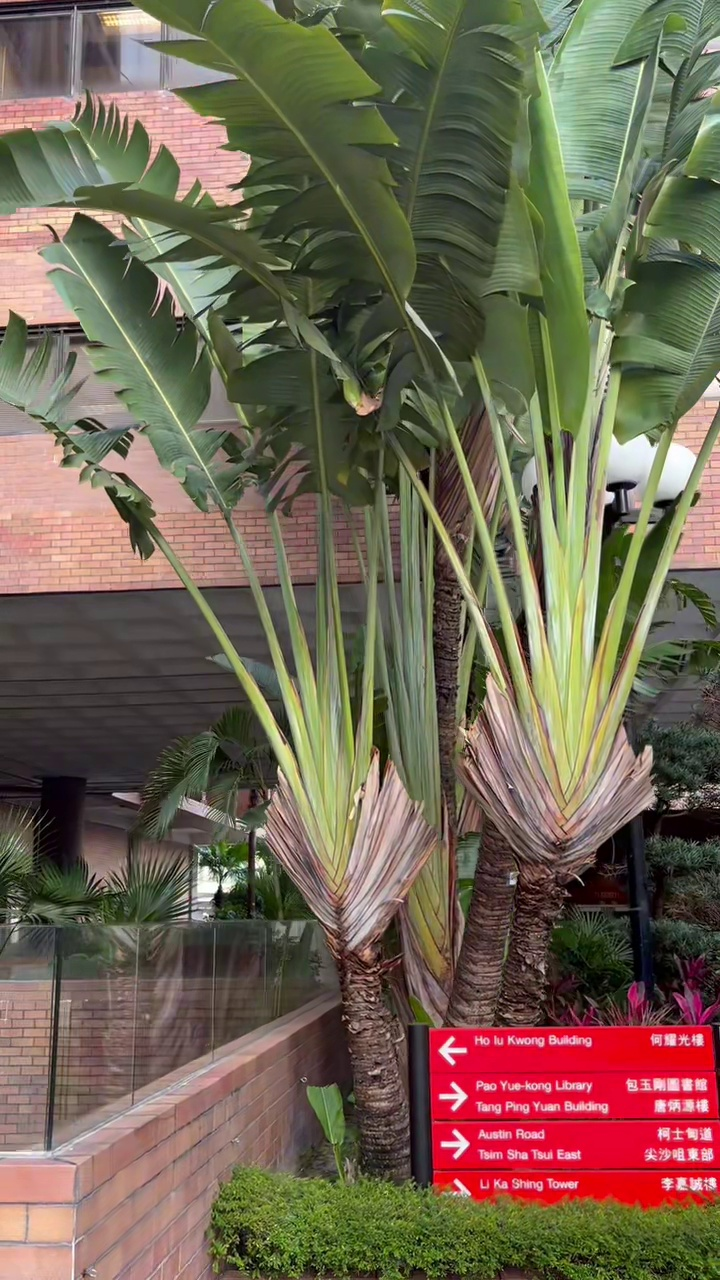Travellers-tree: (0, 0, 719, 1178)
